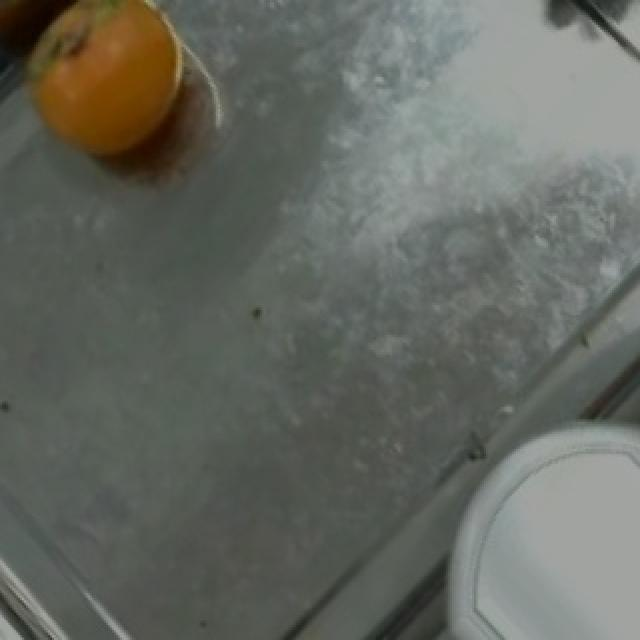Fruit: (450, 429, 640, 640), (2, 0, 204, 181)
